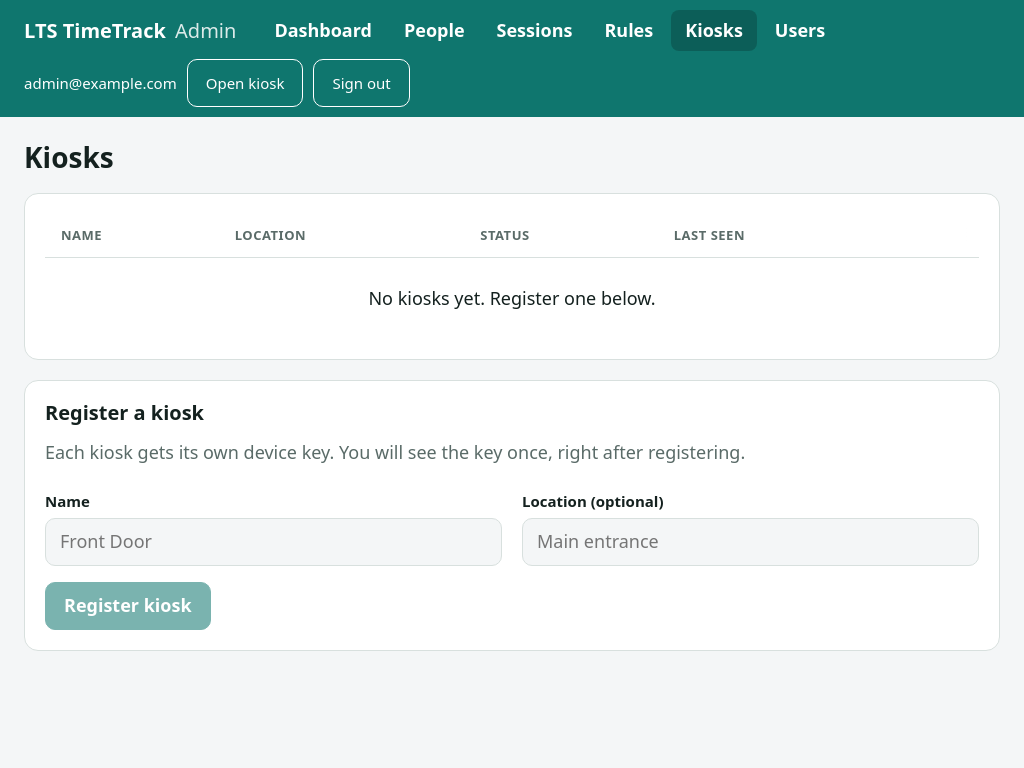
it: kiosks page › registers a kiosk and shows its key once, with a copy button
The image size is (1024, 768).
Type "  Gate  " into the field labelled "Name" at (274, 542), box x1=45 y1=518 x2=502 y2=566
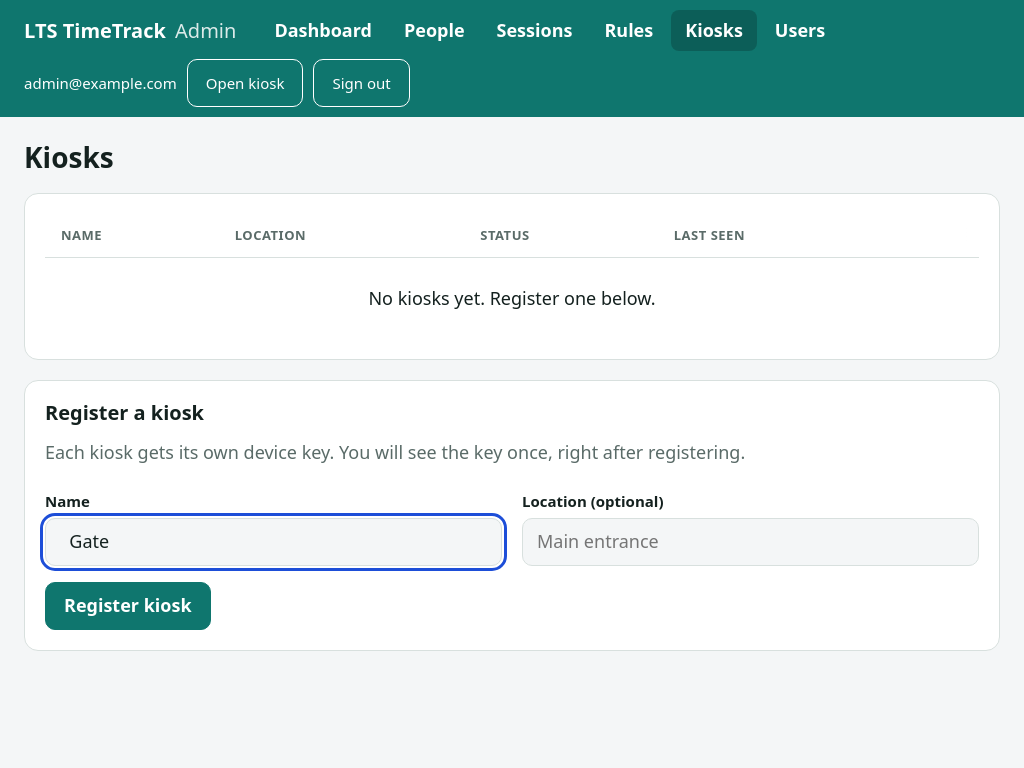
Click the button "Register kiosk" at (128, 606), box x1=45 y1=582 x2=211 y2=630
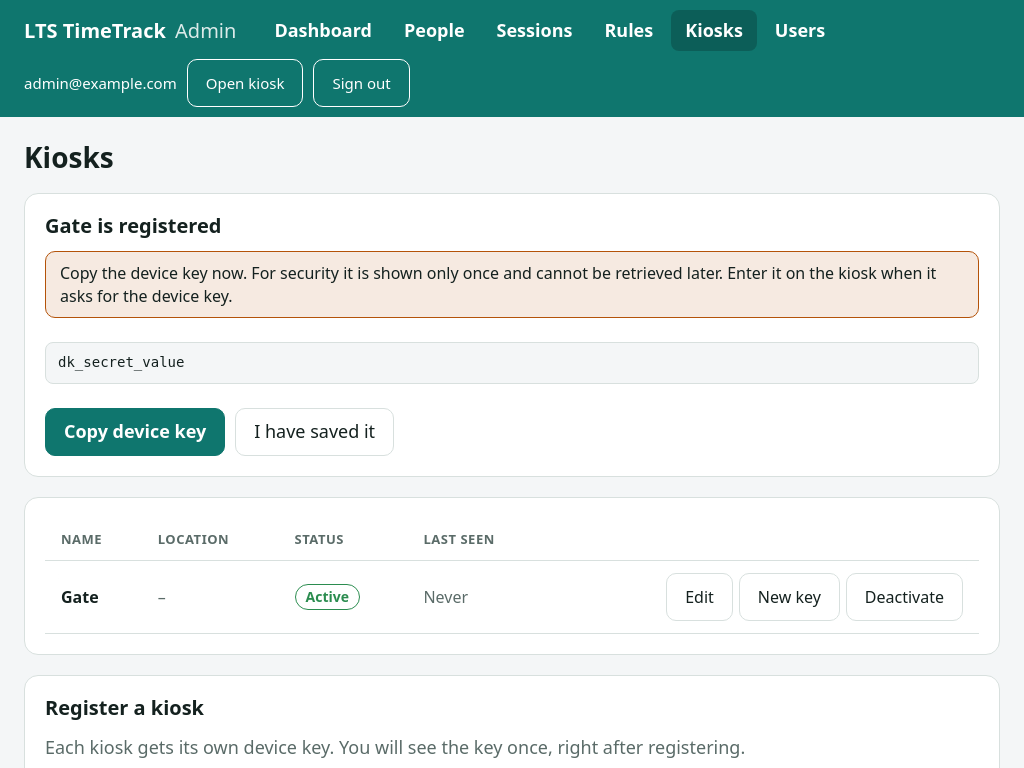
Check: the text "dk_secret_value" is shown, box x1=45 y1=342 x2=979 y2=384
Check: the text "shown only once" is shown, box x1=208 y1=262 x2=723 y2=284
Check: the cell "Gate" is shown, box x1=45 y1=560 x2=142 y2=634
Click the button "Copy device key" at (135, 432), box x1=45 y1=408 x2=225 y2=456
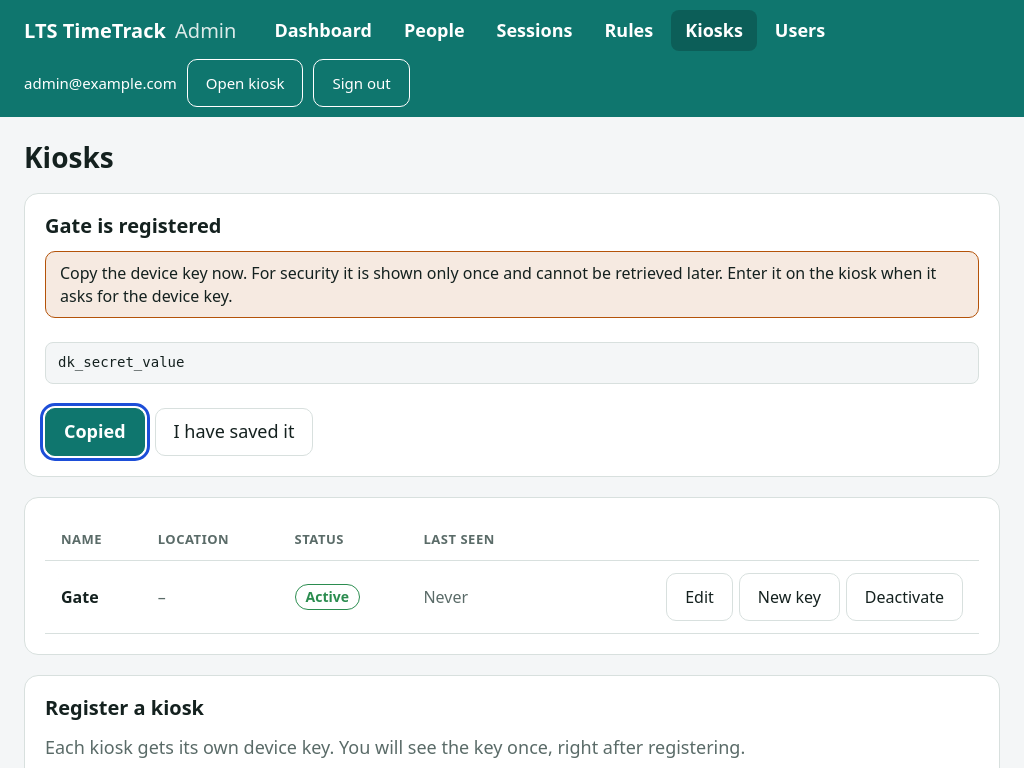
Check: the button "Copied" is shown, box x1=45 y1=408 x2=144 y2=456
Click the button "I have saved it" at (234, 432), box x1=154 y1=408 x2=313 y2=456
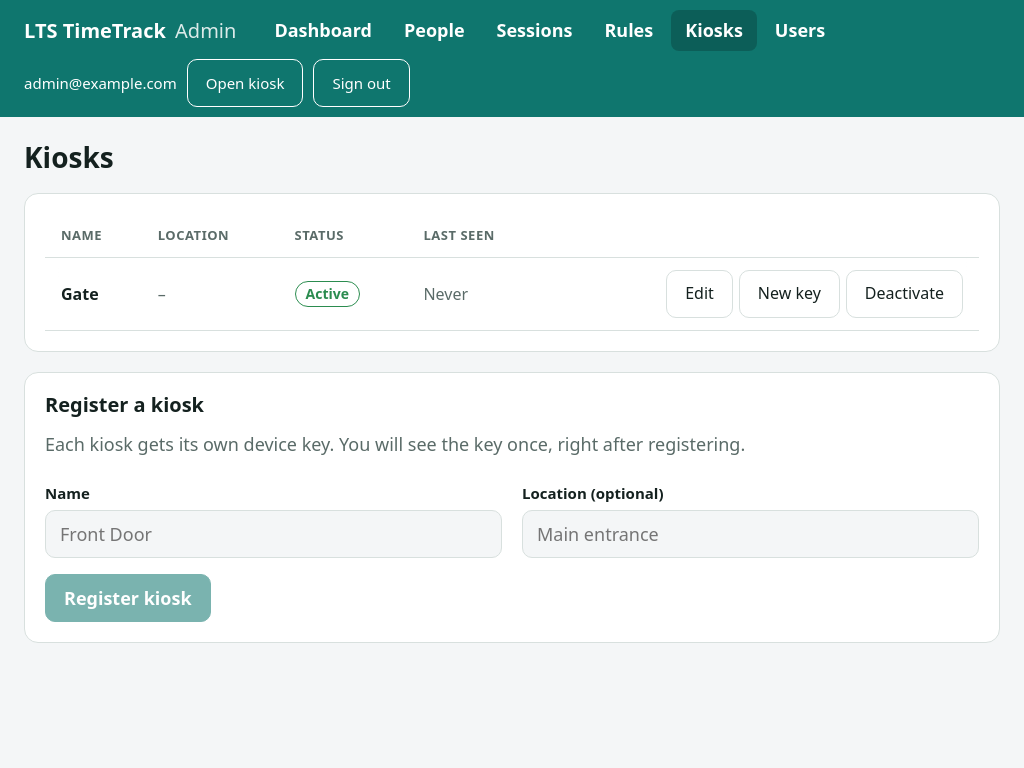
Check: the field labelled "Name" is empty, box x1=45 y1=510 x2=502 y2=558
Check: the text "dk_secret_value" is gone
